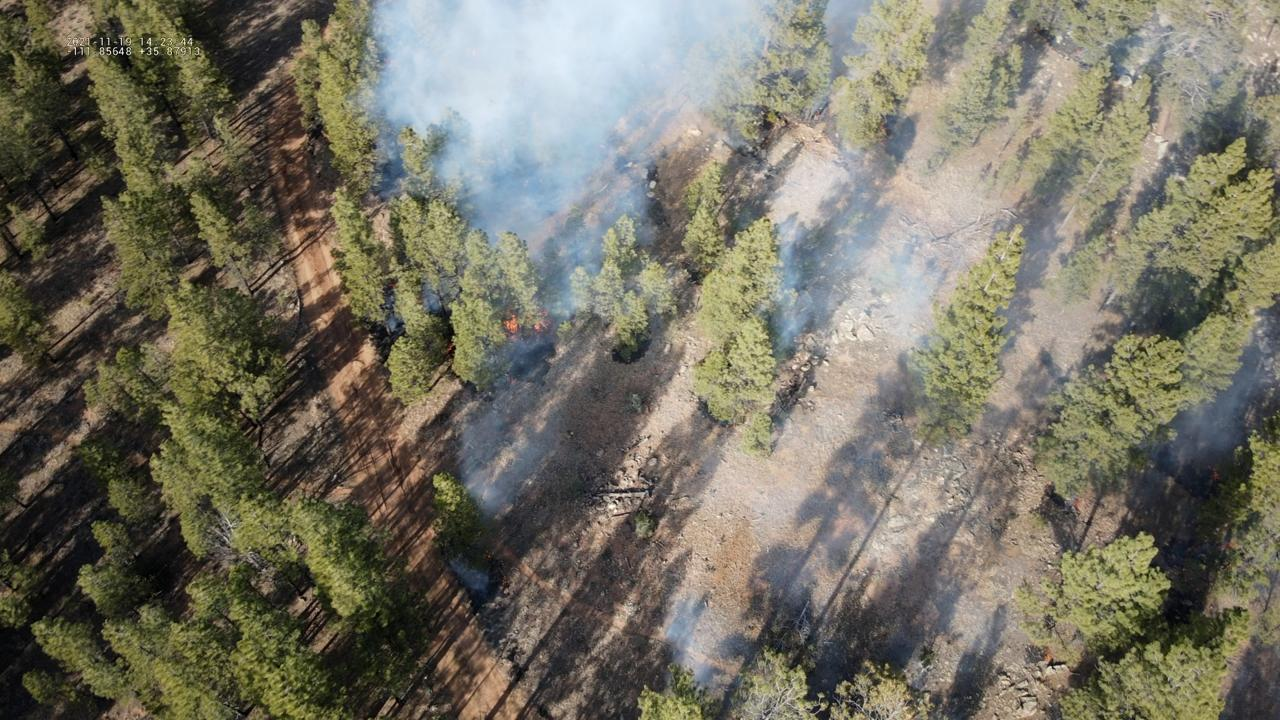fire: (532, 309, 554, 336), (502, 311, 520, 338), (1210, 467, 1221, 482), (445, 342, 455, 353), (387, 283, 396, 288)
smoke: (342, 0, 909, 521), (767, 215, 932, 351), (1171, 333, 1280, 480), (662, 600, 717, 693), (446, 553, 490, 592)
